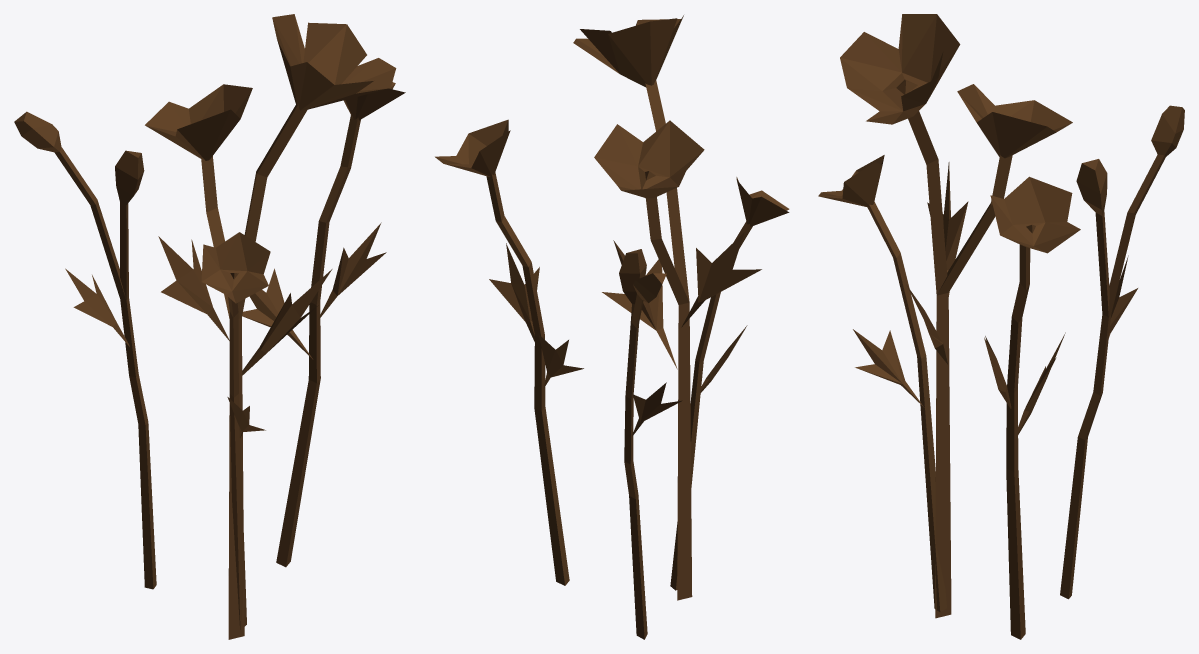
The model's file is SM_Flower_Poppy_Mature_A.fbx.
3 views of the same model, side by side, from view 1: azimuth 30°, elevation 25°; view 2: azimuth 150°, elevation 25°; view 3: azimuth 270°, elevation 25° (orthographic). The views are drawn at different scales.
Parts seen in each view (by area): view 1: flower-poppy-mature-a; view 2: flower-poppy-mature-a; view 3: flower-poppy-mature-a.
Part boxes in pixels (x1,y1,x2,y2): flower-poppy-mature-a: [14, 14, 405, 639]; flower-poppy-mature-a: [435, 15, 789, 639]; flower-poppy-mature-a: [818, 14, 1184, 639].
Size of the model in its own units: 0.4505 by 0.8378 by 0.4504.
